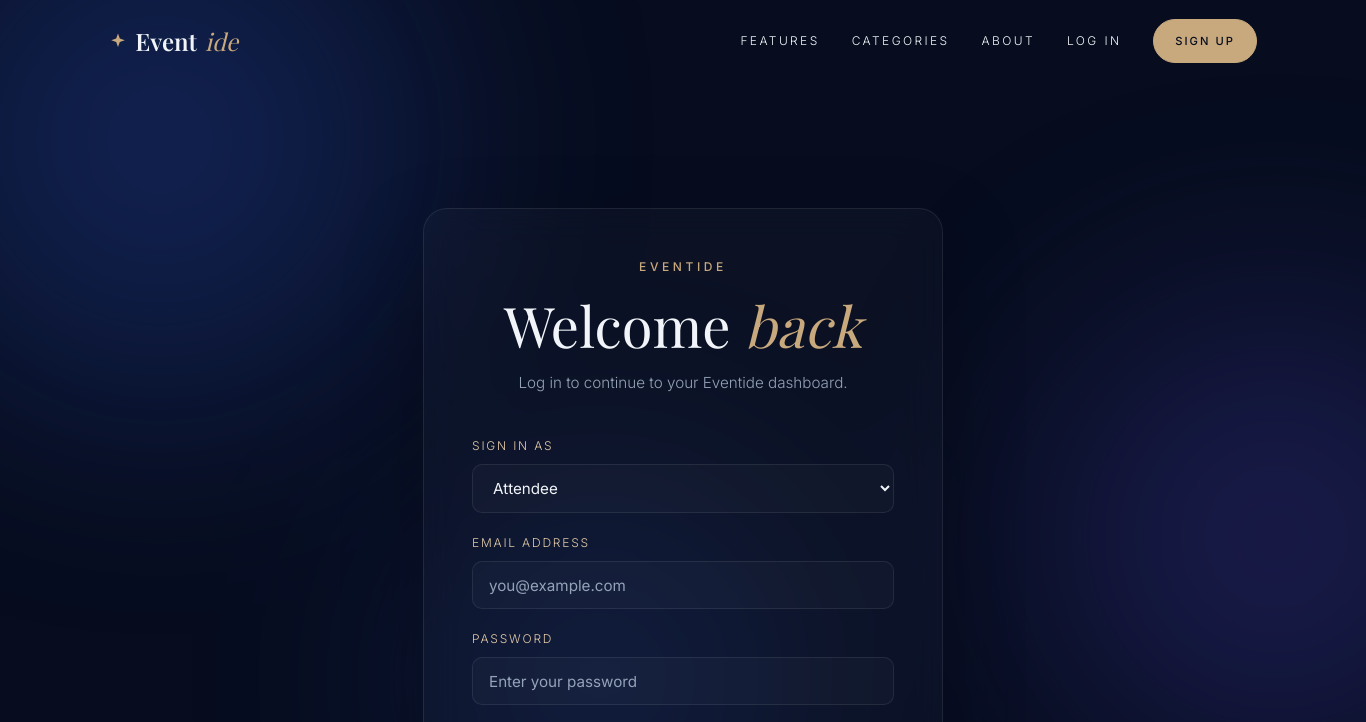
Test: EMS-FR-03 login journey through the app › a host who logs in reaches the guarded host dashboard
The image size is (1366, 722).
Select "Host" in the dropdown labelled "Sign in as" at (683, 488), box left=472, top=464, right=894, bottom=513
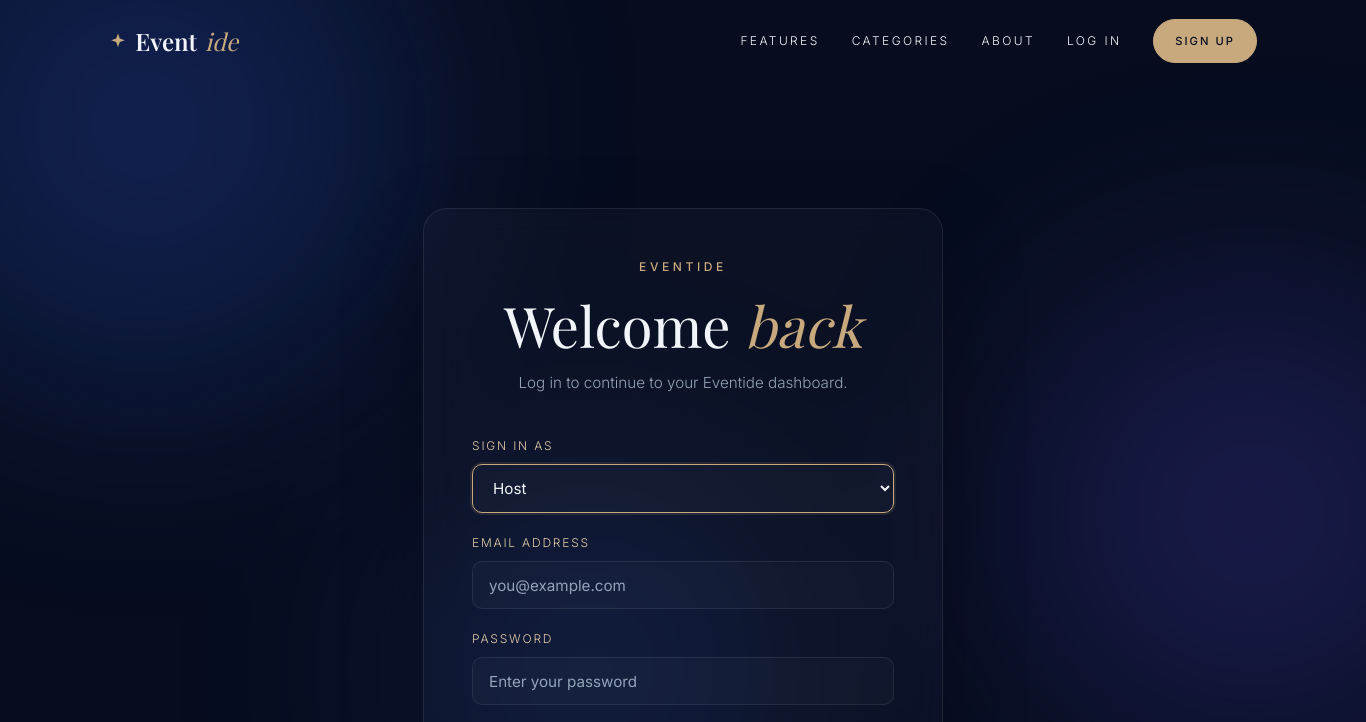
Type "host1@test.com" into the field labelled "Email address".
click(683, 585); type("host1@test.com")  # box left=472, top=561, right=894, bottom=609
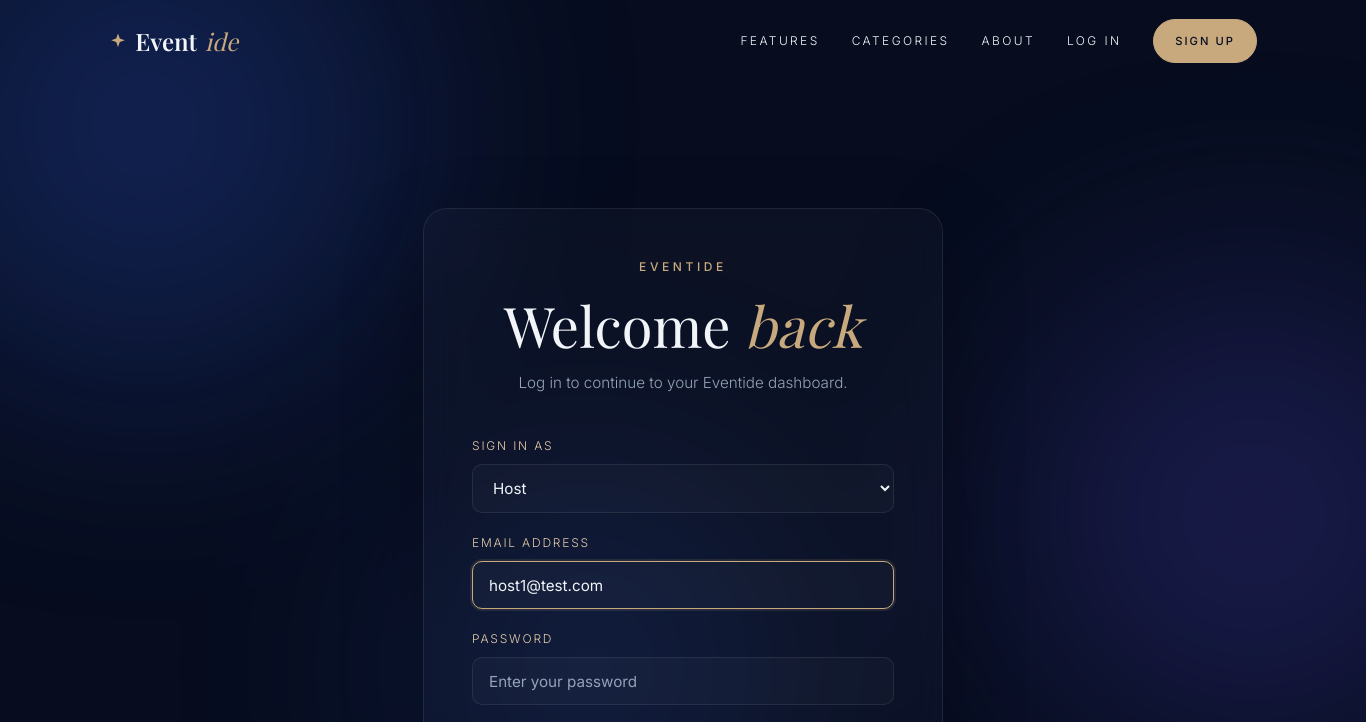
Type "Password123" into the password field labelled "Password".
click(683, 681); type("Password123")  # box left=472, top=657, right=894, bottom=705
(page scrolled)
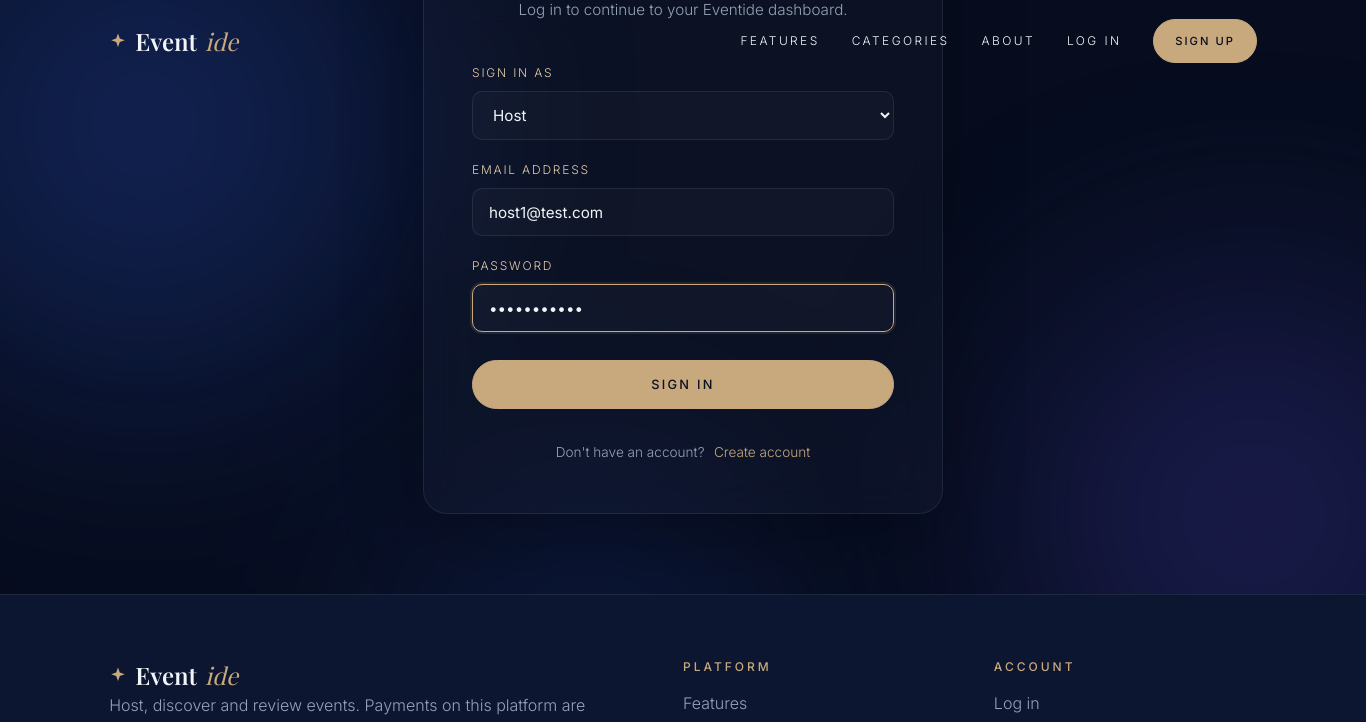
Click the button "Sign in".
click(683, 385)  # box left=472, top=360, right=894, bottom=409
(page scrolled)
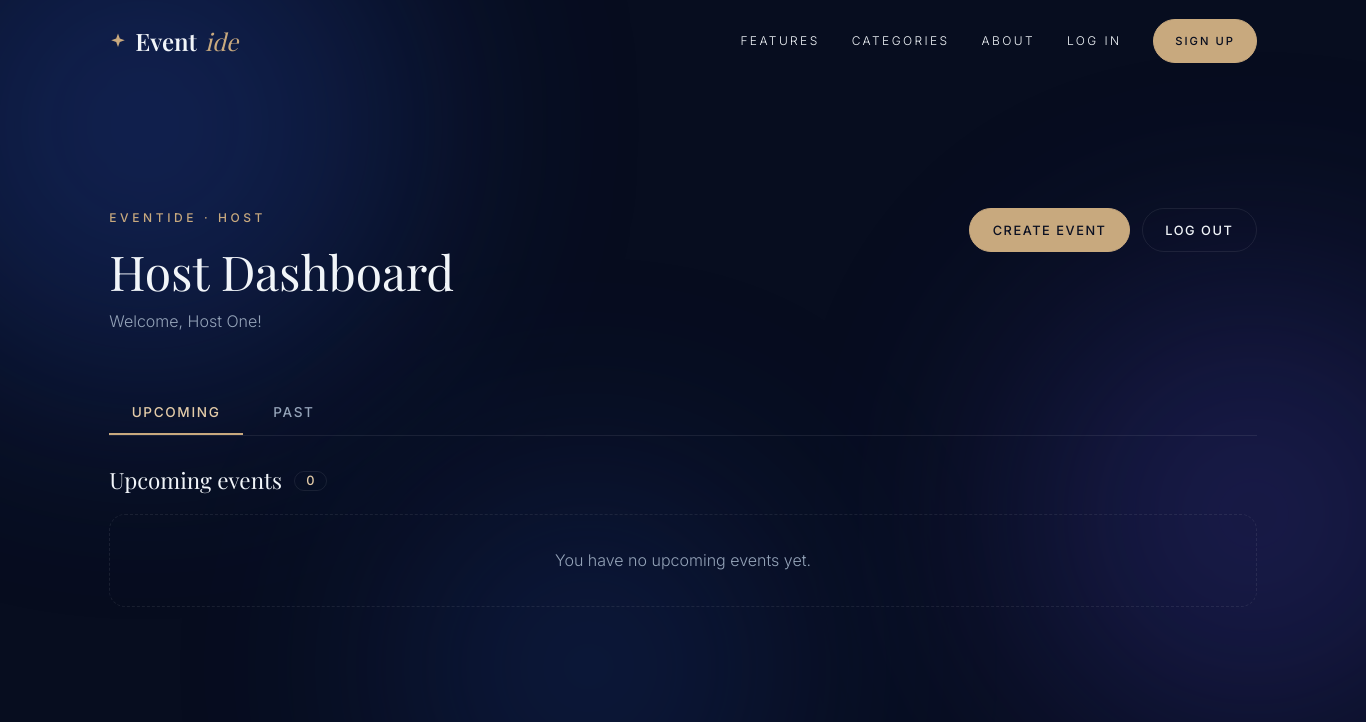
Expected: the heading "Host Dashboard" is shown, left=109, top=244, right=454, bottom=300
Expected: the text "Welcome, Host One!" is shown, left=109, top=311, right=262, bottom=331
